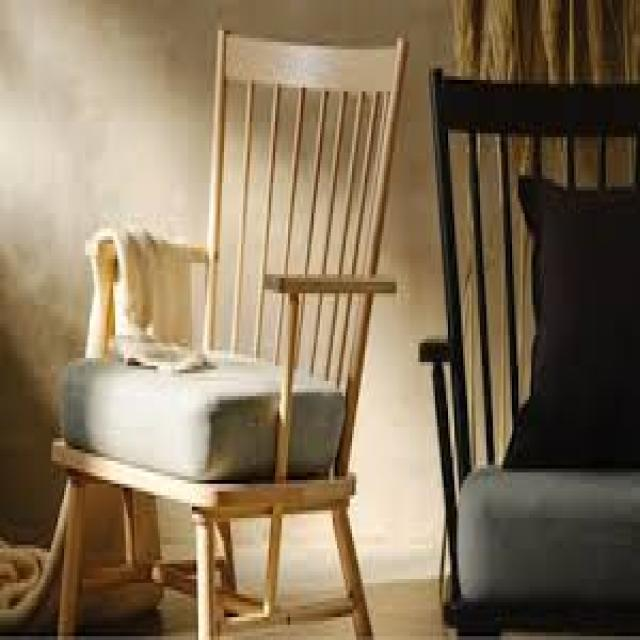chair: (6, 1, 414, 640), (411, 34, 640, 639)
